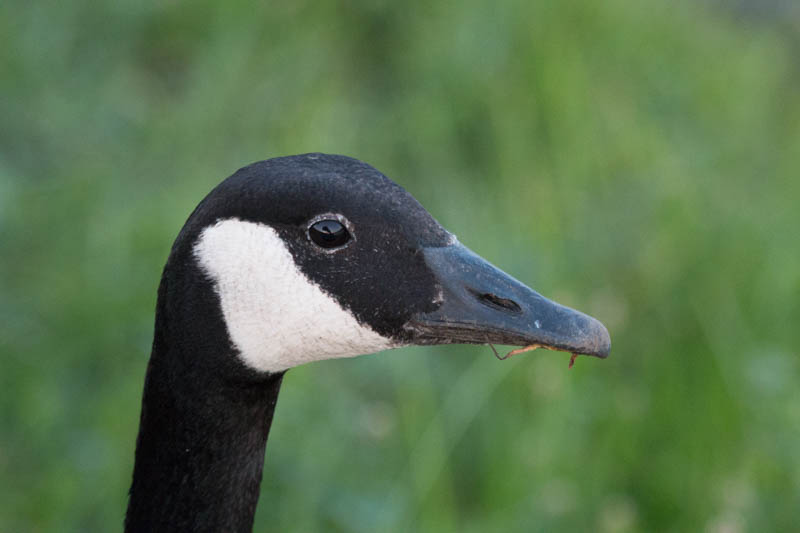goose-head: (153, 153, 611, 374)
